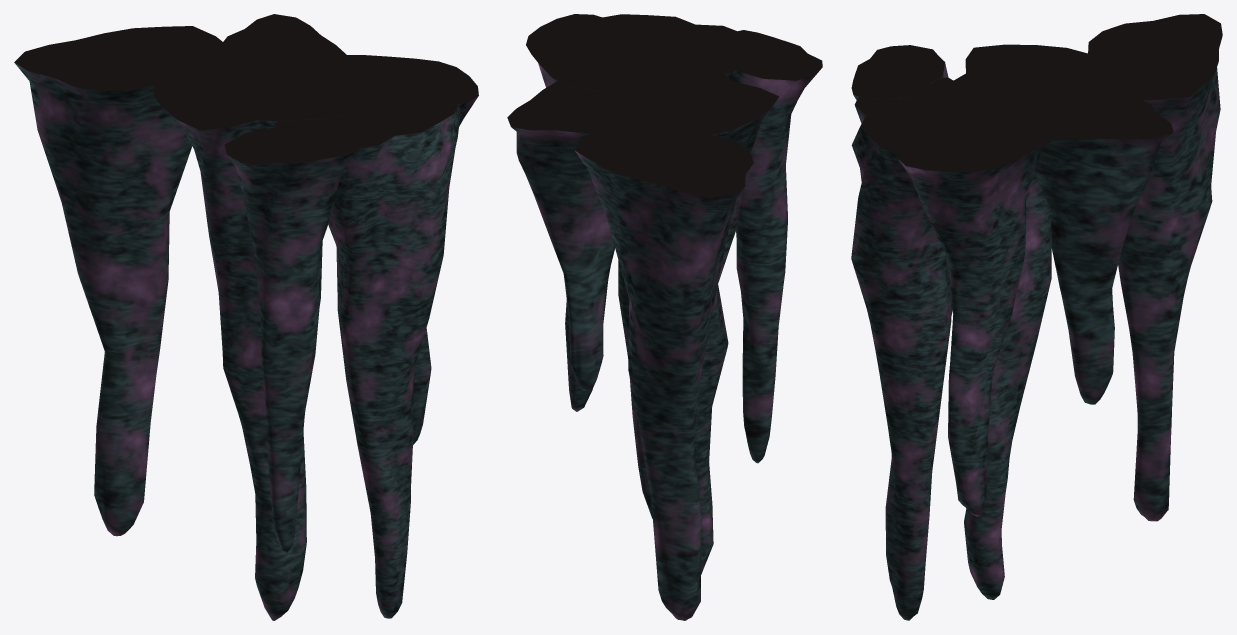
File: CA_162_stalactites.glb
3 renders of one model, left to right at view 1: azimuth 30°, elevation 25°; view 2: azimuth 150°, elevation 25°; view 3: azimuth 270°, elevation 25°, orthographic. The views are drawn at different scales.
Visible parts, largest first — view 1: stalactite_1, stalactite_3, stalactite_2, stalactite_5, stalactite_4, stalactite_6; view 2: stalactite_1, stalactite_5, stalactite_6, stalactite_2, stalactite_4, stalactite_3; view 3: stalactite_1, stalactite_3, stalactite_4, stalactite_6, stalactite_2, stalactite_5.
Boxes of the visible parts, x1,y1,x2,y2 form: stalactite_1: (14, 26, 240, 536); stalactite_3: (275, 104, 460, 618); stalactite_2: (153, 64, 361, 620); stalactite_5: (224, 124, 359, 553); stalactite_4: (299, 55, 478, 444); stalactite_6: (220, 14, 346, 66); stalactite_1: (574, 113, 753, 620); stalactite_5: (708, 30, 822, 463); stalactite_6: (507, 81, 632, 390); stalactite_2: (597, 51, 779, 574); stalactite_4: (526, 14, 653, 411); stalactite_3: (603, 14, 736, 518); stalactite_1: (1083, 14, 1222, 521); stalactite_3: (851, 77, 953, 620); stalactite_4: (897, 107, 1060, 516); stalactite_6: (1034, 92, 1173, 404); stalactite_2: (932, 44, 1092, 599); stalactite_5: (851, 45, 948, 100).
Bounding box in the file's own units: 1.49 × 2.25 × 1.48.
2 materials, 1 textured.
